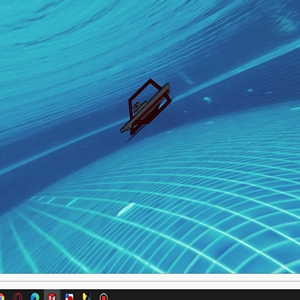submarine: (121, 76, 176, 132)
